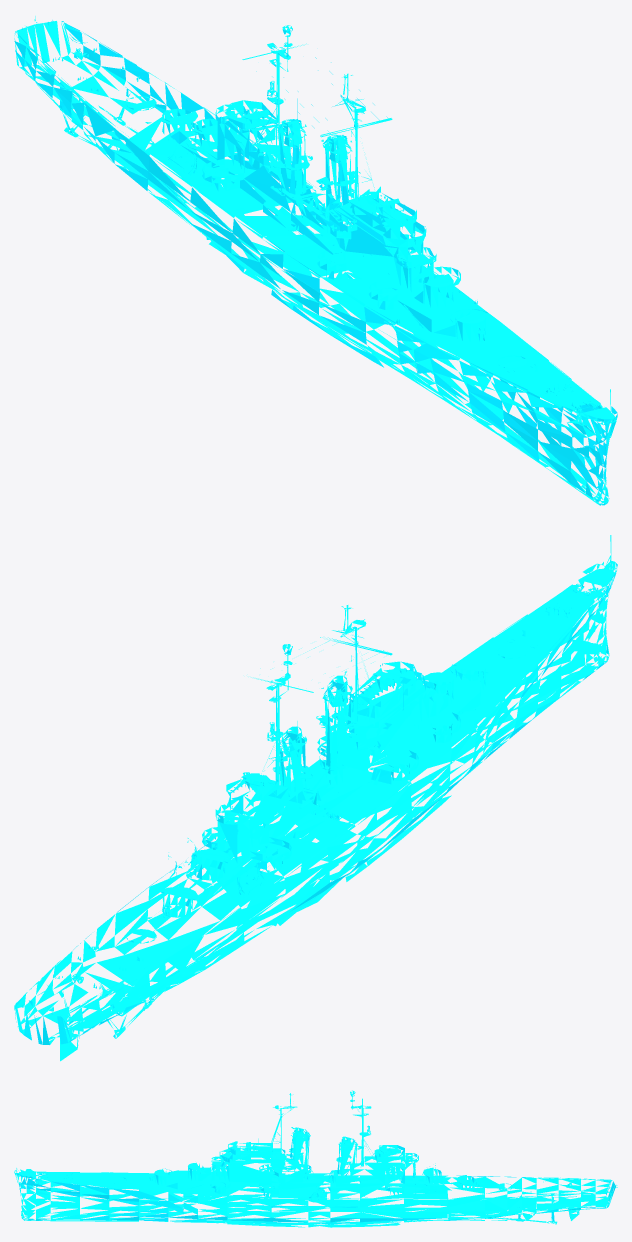
File: Austin.glb
3 views of the same model, one above another, from view 1: azimuth 30°, elevation 25°; view 2: azimuth 150°, elevation 25°; view 3: azimuth 270°, elevation 25° (orthographic). The views are drawn at different scales.
Bounding box in the file's own units: 1.19 × 2.88 × 12.08.
